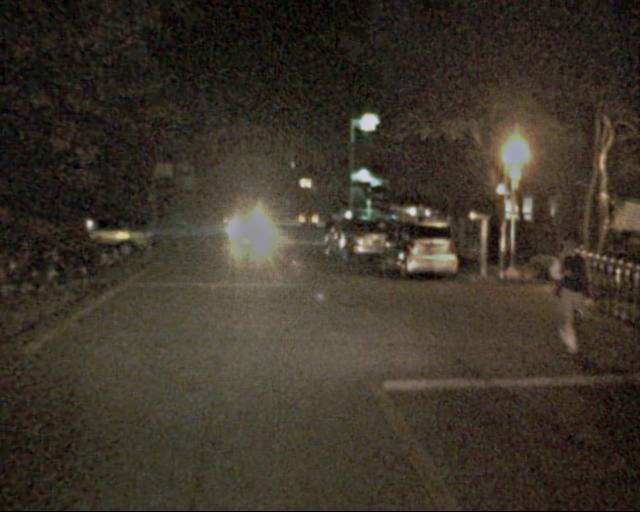person: (542, 236, 596, 357)
